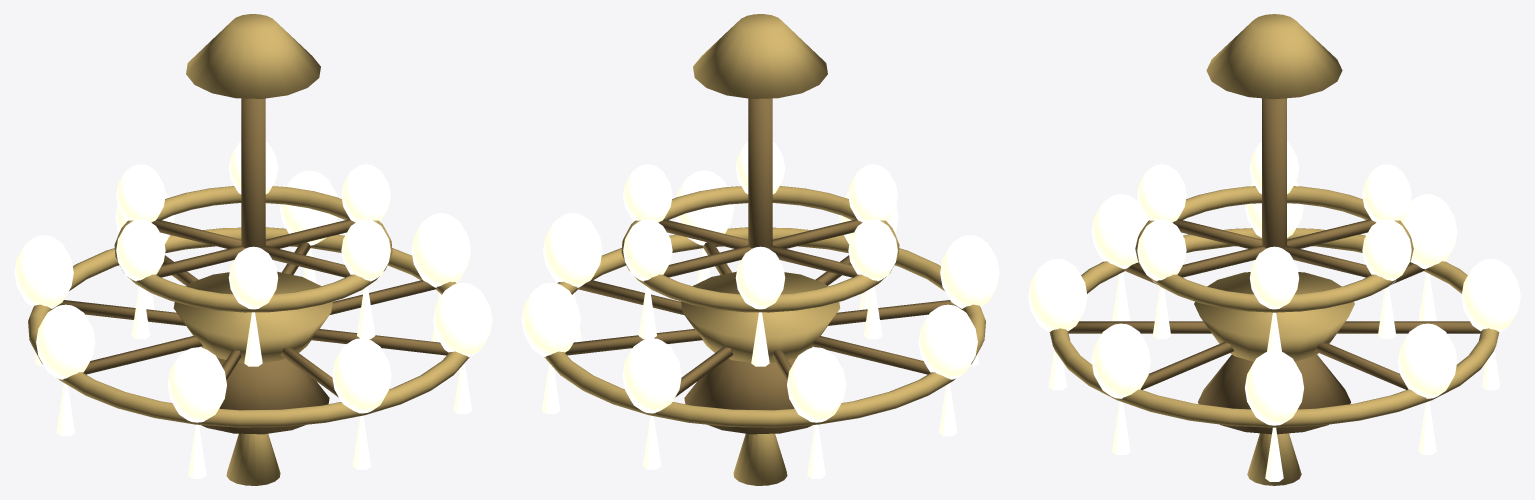
File: lobby_chandelier.glb
The picture shows the model from 3 angles, left to right: view 1: azimuth 30°, elevation 25°; view 2: azimuth 150°, elevation 25°; view 3: azimuth 270°, elevation 25°; orthographic projection.
Parts seen in each view (by area): view 1: Ring_0, Stem_0, Ring_1, Stem_2, Stem_3, Stem_1, Globe_0_5, Globe_0_6, Globe_0_4, Globe_0_0, Globe_0_7, Globe_0_3 (+24 smaller); view 2: Ring_0, Stem_0, Ring_1, Stem_2, Stem_3, Stem_1, Globe_0_3, Globe_0_2, Globe_0_4, Globe_0_0, Globe_0_1, Globe_0_5 (+24 smaller); view 3: Ring_0, Stem_0, Ring_1, Stem_2, Stem_3, Stem_1, Globe_0_0, Globe_0_1, Globe_0_7, Globe_0_2, Globe_0_6, Globe_0_3 (+24 smaller).
Part boxes in pixels (x1,y1,x2,y2): Ring_0: [28, 227, 469, 427]; Stem_0: [186, 14, 320, 98]; Ring_1: [114, 186, 392, 312]; Stem_2: [173, 271, 332, 362]; Stem_3: [201, 357, 329, 434]; Stem_1: [241, 98, 265, 248]; Globe_0_5: [167, 347, 226, 422]; Globe_0_6: [332, 338, 391, 413]; Globe_0_4: [36, 304, 95, 379]; Globe_0_0: [411, 213, 470, 287]; Globe_0_7: [433, 282, 492, 357]; Globe_0_3: [14, 235, 73, 308]; Ring_0: [544, 227, 985, 427]; Stem_0: [693, 14, 827, 98]; Ring_1: [621, 186, 899, 312]; Stem_2: [681, 271, 840, 362]; Stem_3: [684, 357, 812, 434]; Stem_1: [748, 98, 772, 248]; Globe_0_3: [787, 347, 846, 422]; Globe_0_2: [622, 338, 681, 413]; Globe_0_4: [918, 304, 977, 379]; Globe_0_0: [543, 213, 602, 287]; Globe_0_1: [521, 282, 580, 357]; Globe_0_5: [940, 235, 999, 308]; Ring_0: [1049, 228, 1499, 427]; Stem_0: [1206, 14, 1342, 99]; Ring_1: [1135, 186, 1413, 312]; Stem_2: [1194, 272, 1354, 361]; Stem_3: [1198, 355, 1350, 434]; Stem_1: [1262, 98, 1286, 248]; Globe_0_0: [1245, 350, 1303, 425]; Globe_0_1: [1398, 323, 1457, 398]; Globe_0_7: [1091, 323, 1150, 398]; Globe_0_2: [1461, 259, 1520, 332]; Globe_0_6: [1028, 259, 1087, 332]; Globe_0_3: [1401, 194, 1457, 268].
Size of the model in its own units: 3.98 by 4.02 by 3.98.
